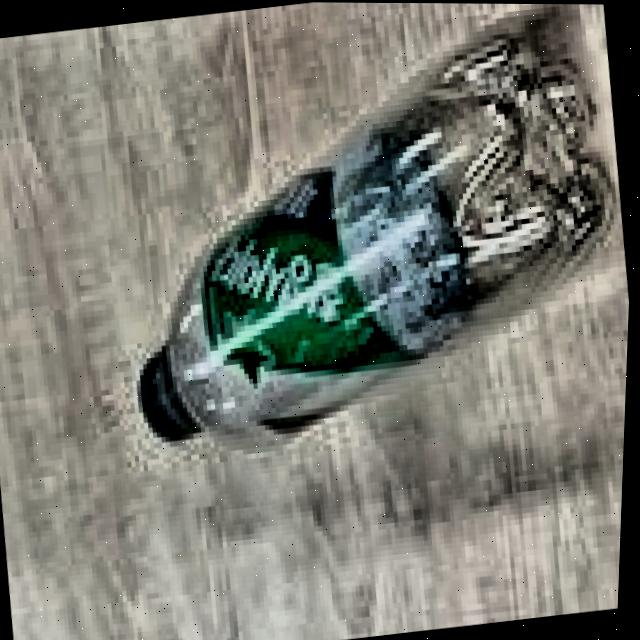plastic: (82, 13, 640, 469)
